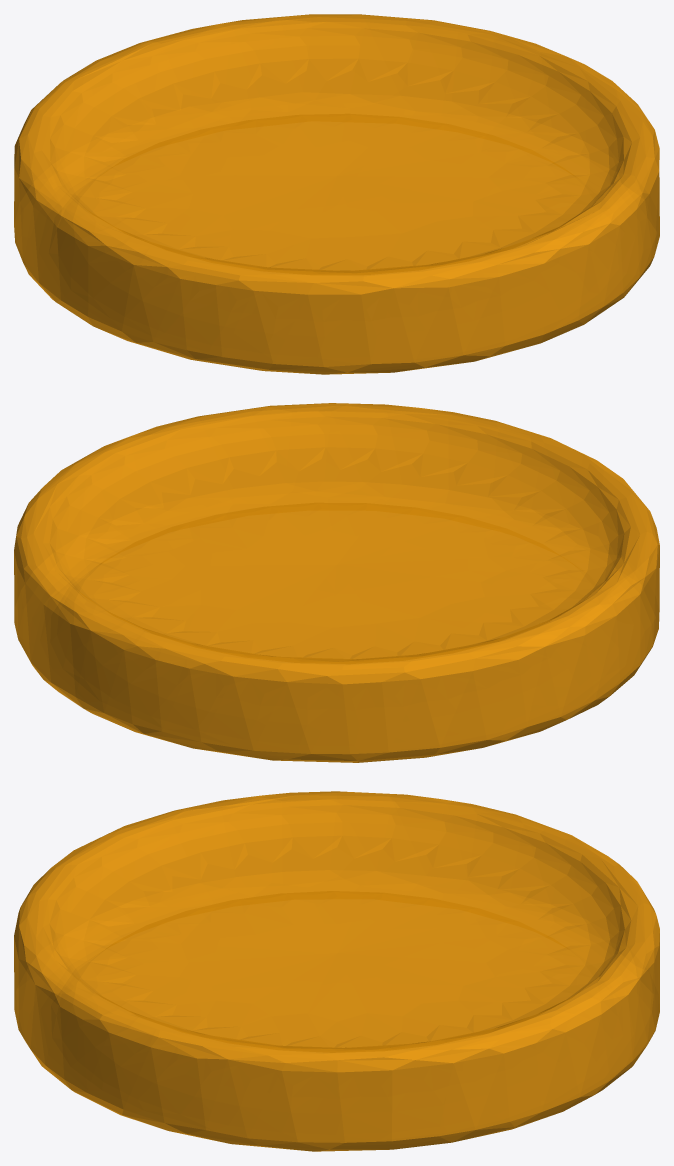
File: Item1_Coin.fbx
The picture shows the model from 3 angles, top to bottom: view 1: azimuth 30°, elevation 25°; view 2: azimuth 150°, elevation 25°; view 3: azimuth 270°, elevation 25°; orthographic projection.
Visible parts, largest first — view 1: Cylinder; view 2: Cylinder; view 3: Cylinder.
Part boxes in pixels (box(x1,y1,x2,y2)): Cylinder: box(14, 14, 659, 374); Cylinder: box(14, 403, 659, 762); Cylinder: box(14, 791, 659, 1151).
Bounding box in the file's own units: 199 × 33.72 × 199.
